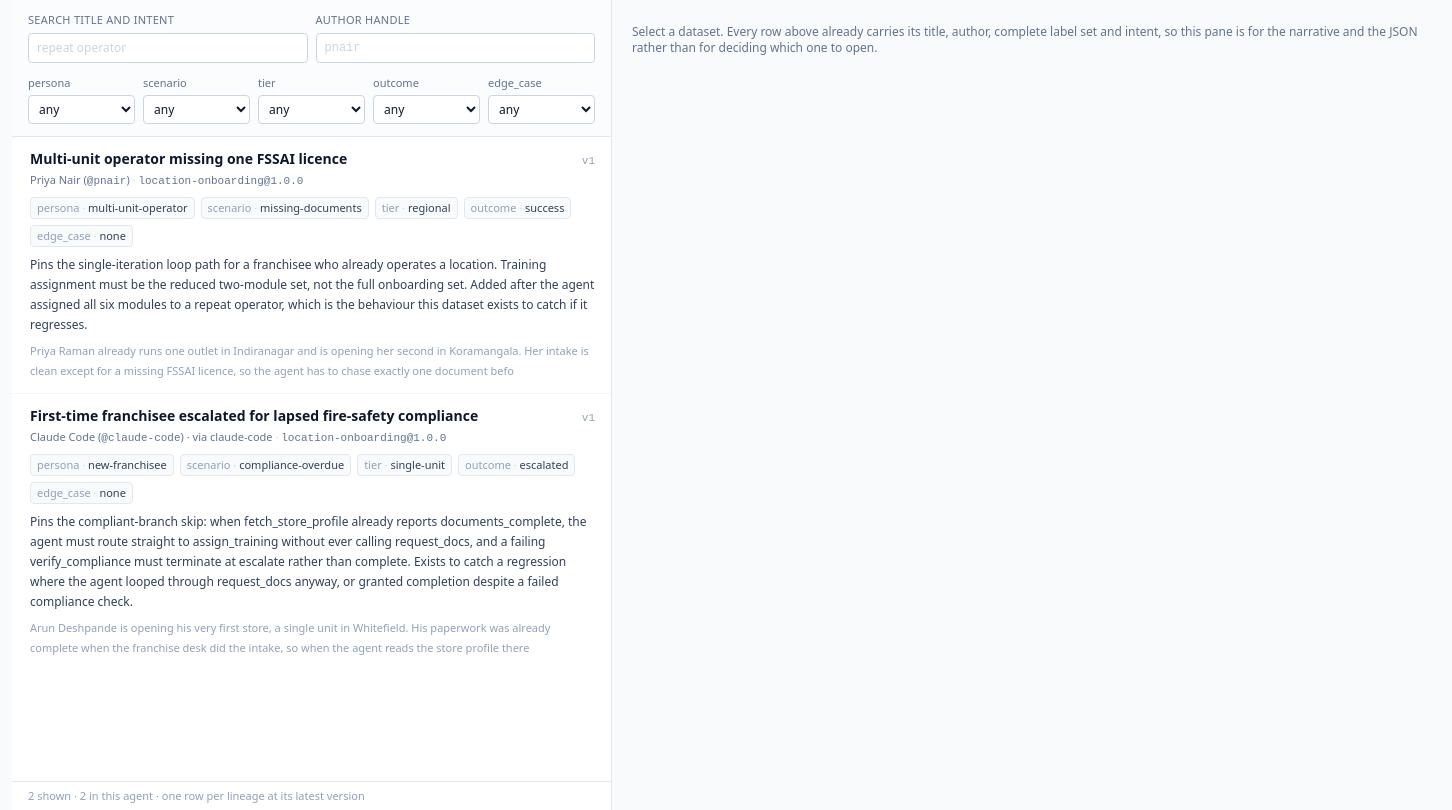
clause 3: judging relevance without a detail fetch › fetches the full dataset only when a row is selected
The width and height of the screenshot is (1452, 810).
Click the 1st button.
click(312, 265)  # box x1=12 y1=137 x2=611 y2=393
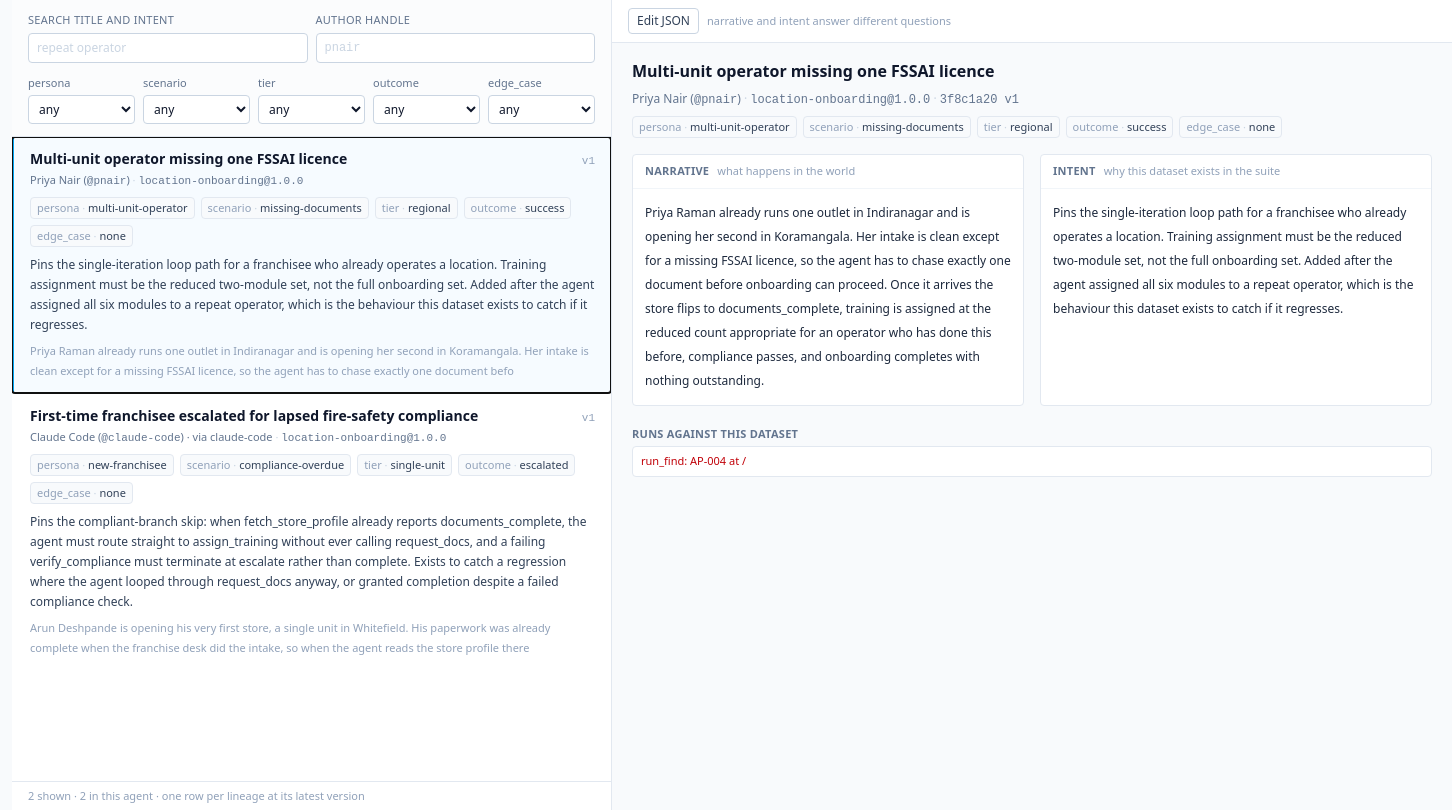
Result: the element with test id "dataset-detail" is shown at x1=632 y1=59 x2=1432 y2=406
